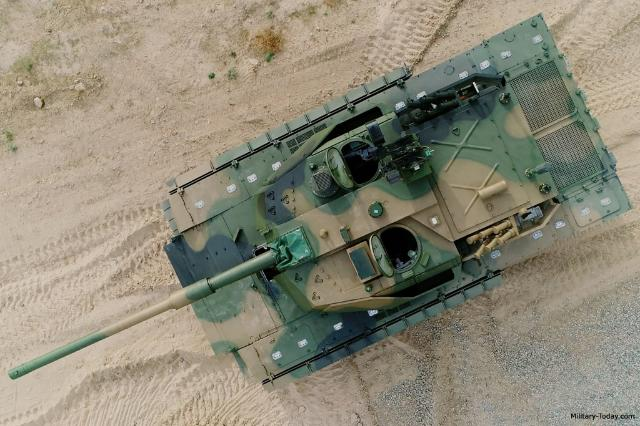tank: (170, 78, 628, 320)
